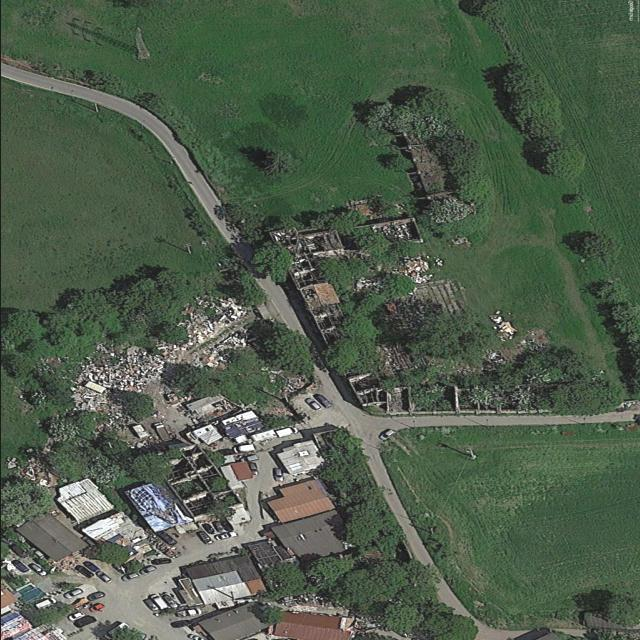dump_site: (145, 292, 251, 367), (71, 349, 162, 395), (187, 328, 259, 376), (68, 384, 130, 429), (388, 248, 453, 289), (13, 459, 64, 489), (483, 306, 523, 344)
